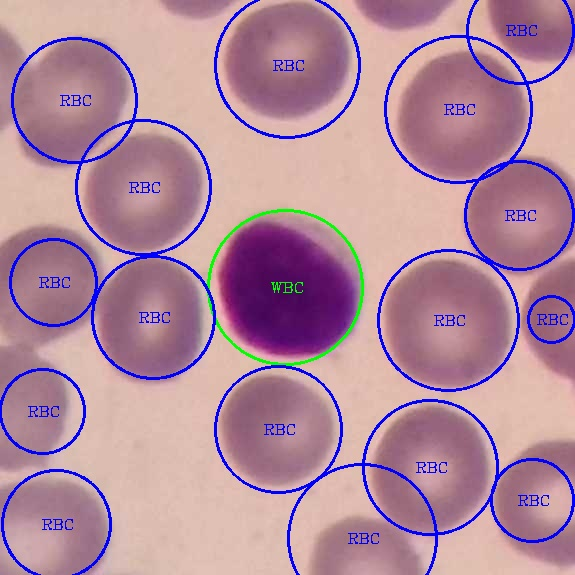RBC: (393, 48, 531, 183), (384, 258, 516, 396), (369, 399, 494, 539), (222, 0, 356, 127), (14, 33, 134, 171), (83, 131, 210, 256), (97, 253, 210, 392), (216, 369, 337, 491), (463, 153, 573, 276), (1, 220, 103, 350), (0, 475, 115, 574), (492, 436, 574, 571), (0, 342, 74, 480), (306, 513, 438, 574)
WBC: (212, 207, 373, 368)
